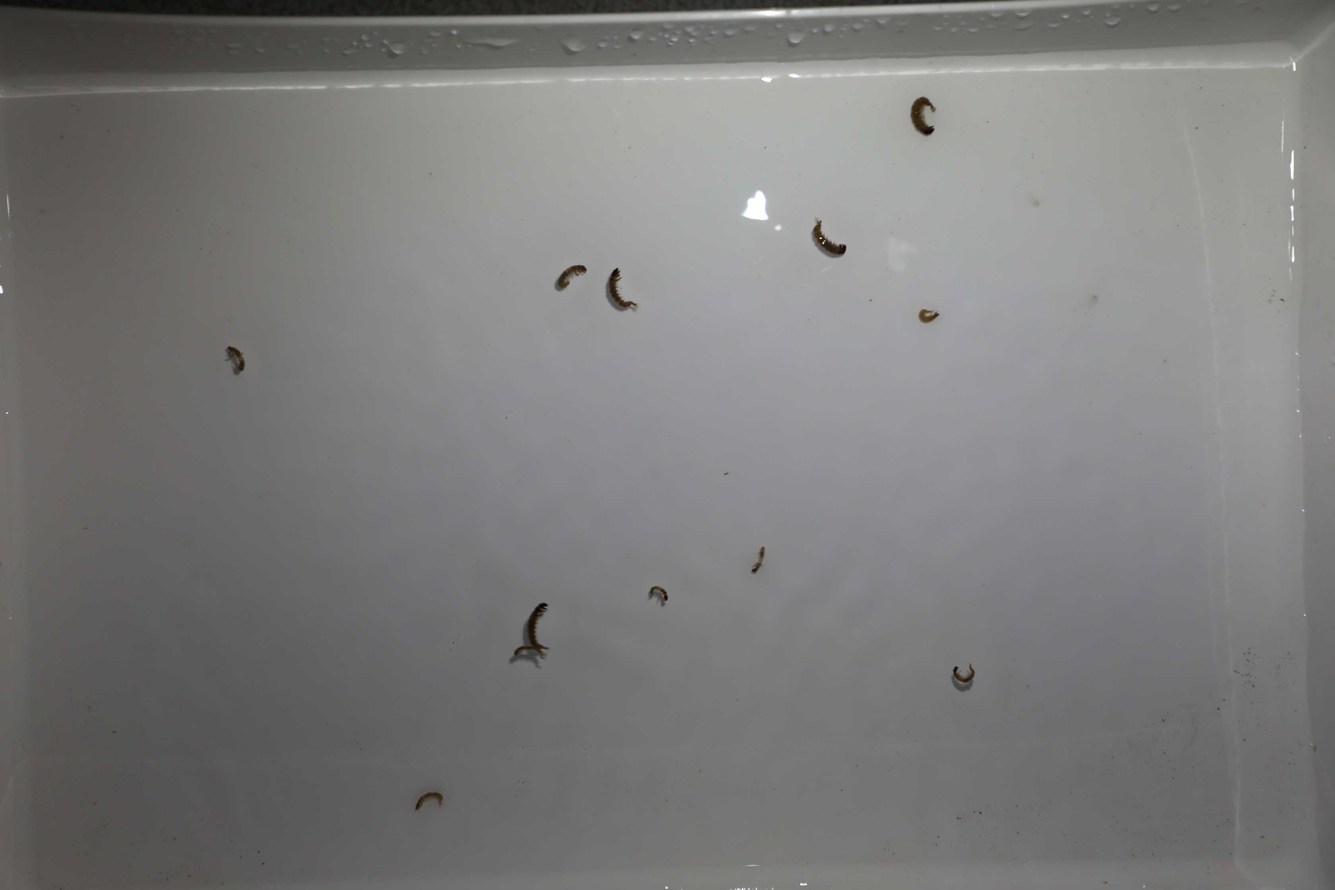Cadisfly: (898, 94, 943, 142), (603, 267, 642, 314), (807, 218, 849, 261), (527, 598, 552, 656), (941, 664, 982, 697), (223, 338, 253, 383), (414, 783, 449, 814), (553, 261, 588, 292), (509, 644, 550, 665), (915, 307, 951, 330), (748, 545, 771, 576), (641, 583, 670, 603)
